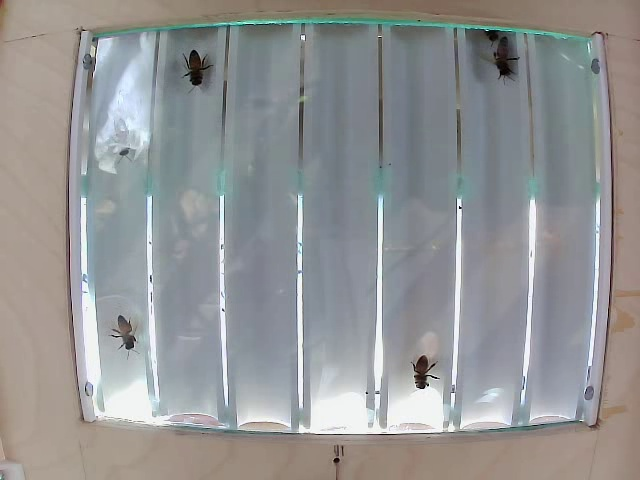bee: (486, 32, 521, 86), (177, 47, 213, 98), (110, 313, 142, 354), (410, 353, 441, 390)
